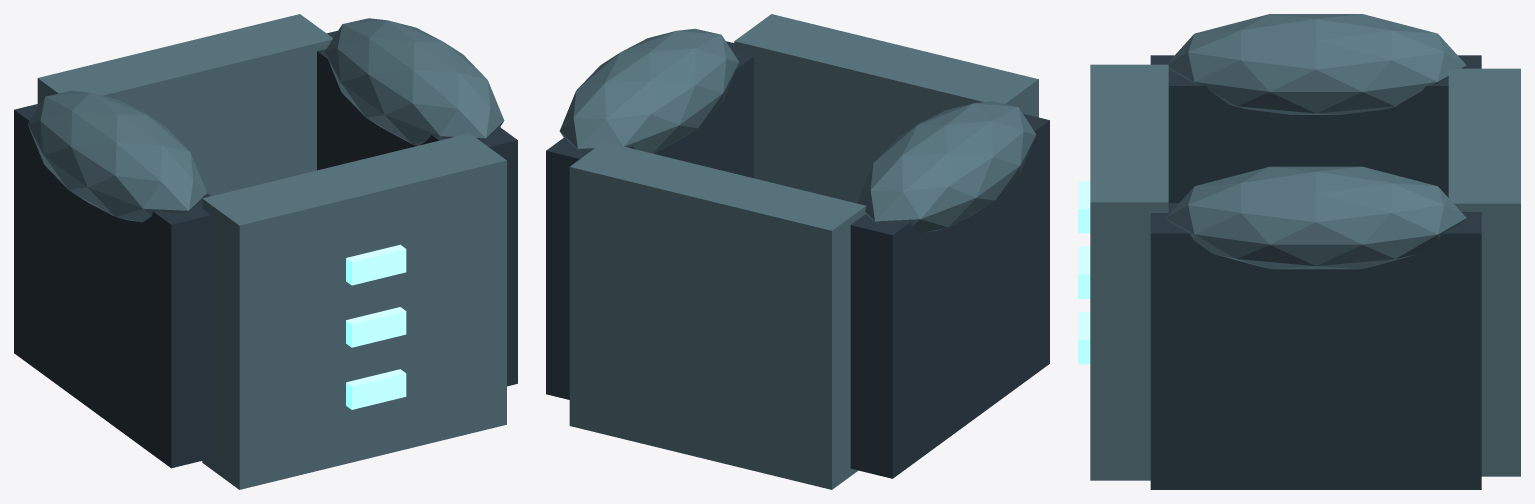
The model's file is field_armor.glb.
3 views of the same model, side by side, from view 1: azimuth 30°, elevation 25°; view 2: azimuth 150°, elevation 25°; view 3: azimuth 270°, elevation 25° (orthographic). The views are drawn at different scales.
Visible parts, largest first — view 1: Chest plate, Side plate, Back plate, Shoulder plate, Shoulder plate.001, Side plate.001, Chest marking.002, Chest marking, Chest marking.001; view 2: Back plate, Side plate, Chest plate, Shoulder plate, Shoulder plate.001, Side plate.001; view 3: Side plate.001, Chest plate, Shoulder plate.001, Shoulder plate, Side plate, Back plate, Chest marking.001, Chest marking, Chest marking.002.
Part boxes in pixels (left/top/right/bottom): Chest plate: left=202, top=133, right=506, bottom=489; Side plate: left=14, top=103, right=210, bottom=468; Back plate: left=37, top=14, right=332, bottom=196; Shoulder plate: left=27, top=90, right=206, bottom=222; Shoulder plate.001: left=324, top=18, right=504, bottom=145; Side plate.001: left=317, top=30, right=517, bottom=386; Chest marking.002: left=346, top=244, right=406, bottom=285; Chest marking: left=346, top=369, right=406, bottom=409; Chest marking.001: left=346, top=307, right=406, bottom=347; Back plate: left=569, top=142, right=865, bottom=489; Side plate: left=850, top=113, right=1049, bottom=478; Chest plate: left=734, top=14, right=1038, bottom=203; Shoulder plate: left=857, top=101, right=1036, bottom=232; Shoulder plate.001: left=559, top=28, right=738, bottom=153; Side plate.001: left=546, top=41, right=753, bottom=399; Side plate.001: left=1150, top=203, right=1481, bottom=489; Chest plate: left=1090, top=64, right=1168, bottom=480; Shoulder plate.001: left=1166, top=166, right=1466, bottom=269; Shoulder plate: left=1166, top=14, right=1466, bottom=114; Side plate: left=1150, top=55, right=1481, bottom=202; Back plate: left=1448, top=68, right=1520, bottom=476; Chest marking.001: left=1078, top=246, right=1090, bottom=298; Chest marking: left=1078, top=312, right=1090, bottom=364; Chest marking.002: left=1078, top=181, right=1090, bottom=233.
Bounding box in the file's own units: 0.8092 × 0.58 × 0.7355.
